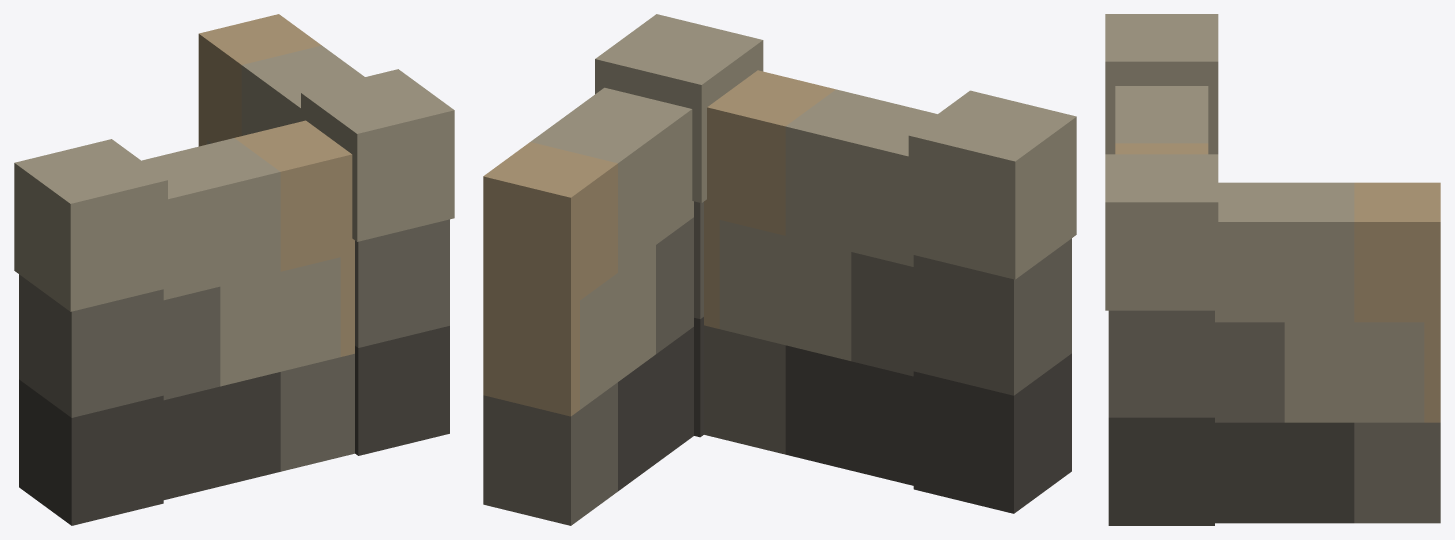
File: TW_STONE_CORNER_L90_A_LOD0.glb
3 renders of one model, left to right at view 1: azimuth 30°, elevation 25°; view 2: azimuth 150°, elevation 25°; view 3: azimuth 270°, elevation 25°, orthographic. The views are drawn at different scales.
Visible parts, largest first — view 1: TW_STONE_CORNER_L90_A_LOD0; view 2: TW_STONE_CORNER_L90_A_LOD0; view 3: TW_STONE_CORNER_L90_A_LOD0.
Boxes of the visible parts, left/top/right/bottom form: TW_STONE_CORNER_L90_A_LOD0: left=14, top=14, right=454, bottom=525; TW_STONE_CORNER_L90_A_LOD0: left=483, top=14, right=1076, bottom=525; TW_STONE_CORNER_L90_A_LOD0: left=1105, top=14, right=1440, bottom=525.
Size of the model in its own units: 1.34 by 1.08 by 1.01.
Materials: 1 (1 with a texture image).
